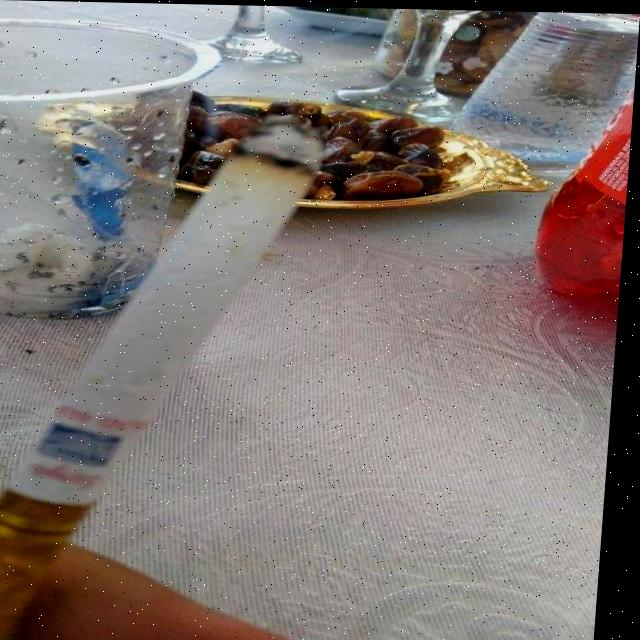cigarette: (0, 122, 331, 640)
